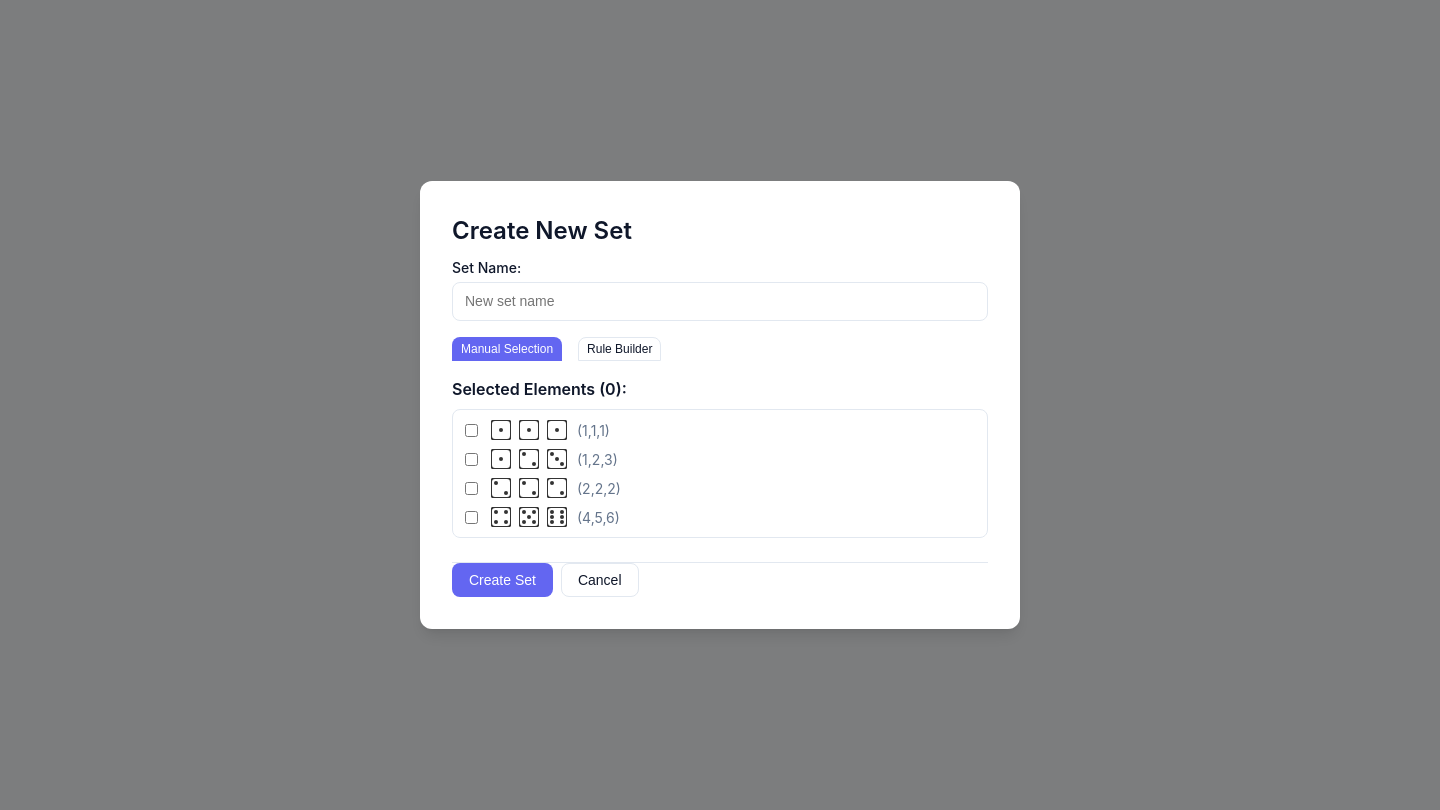
Test: SetEditModal 3-Dice Rules › applies DOUBLES (All Same) rule correctly for 3 dice
Click the button "Rule Builder".
click(620, 349)  # box top-left (578, 337), bottom-right (662, 361)
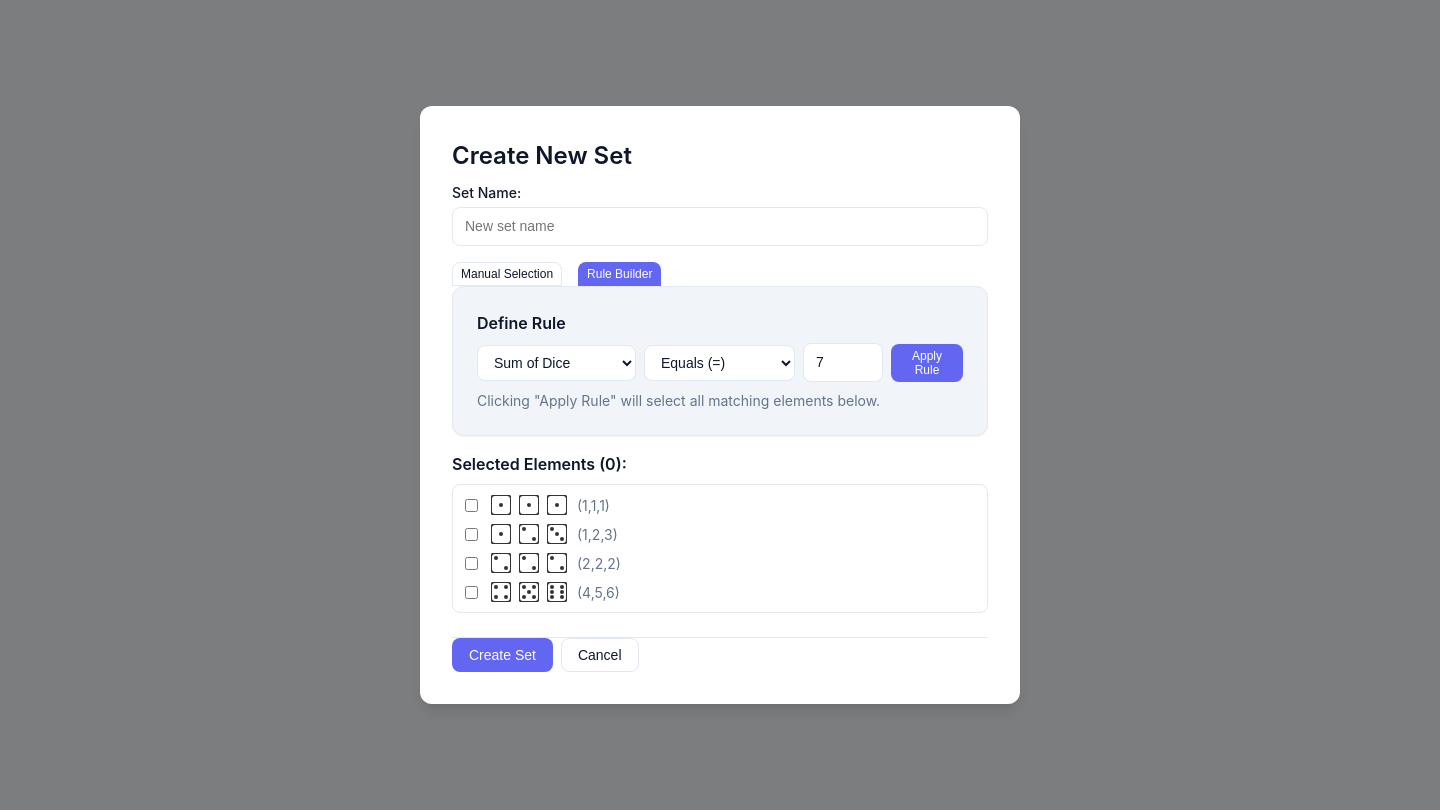
Select "Doubles (e.g. 1,1)" in the 1st dropdown showing "Sum of Dice" at (556,362), box top-left (477, 344), bottom-right (636, 380)
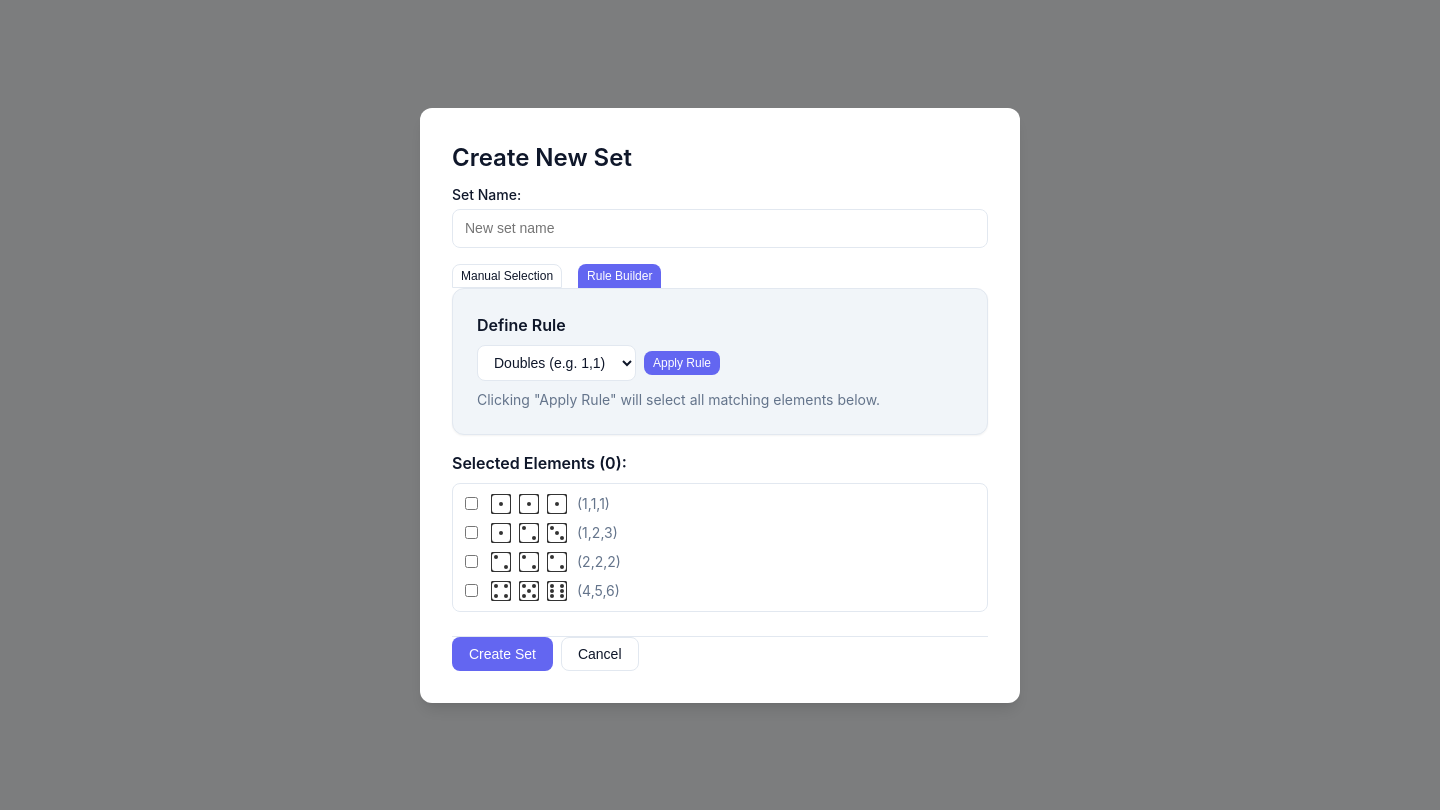
Click the button "Apply Rule".
click(682, 362)  # box top-left (644, 350), bottom-right (720, 374)
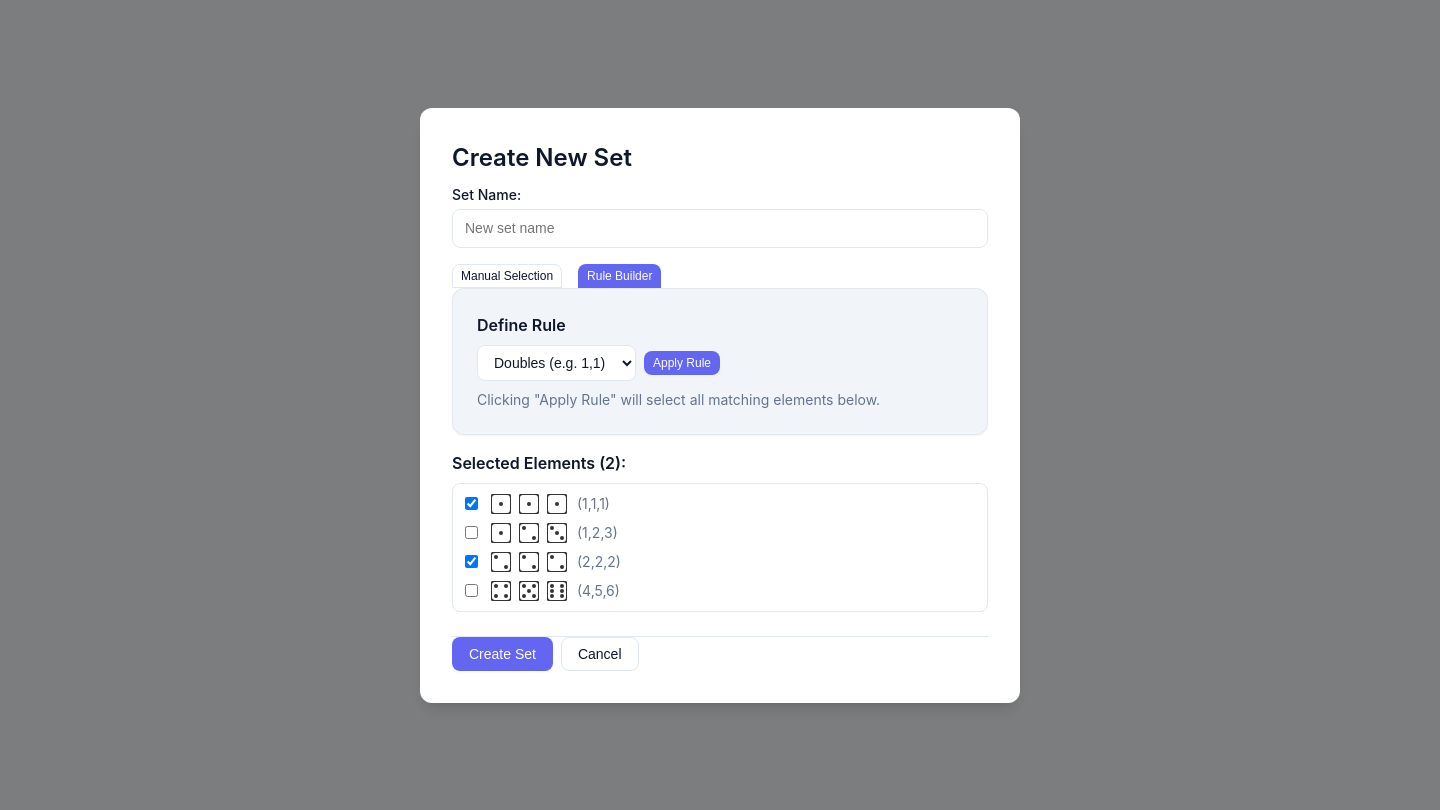
Expected: the checkbox labelled "(1,2,3)" is not checked, top-left (465, 526), bottom-right (478, 539)
Expected: the checkbox labelled "(1,1,1)" is checked, top-left (465, 497), bottom-right (478, 510)
Expected: the checkbox labelled "(2,2,2)" is checked, top-left (465, 555), bottom-right (478, 568)
